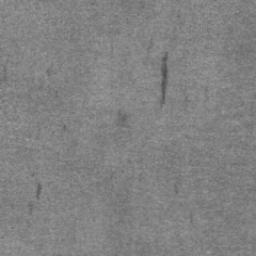Iron scale compression: (160, 52, 169, 109), (33, 173, 44, 201)
